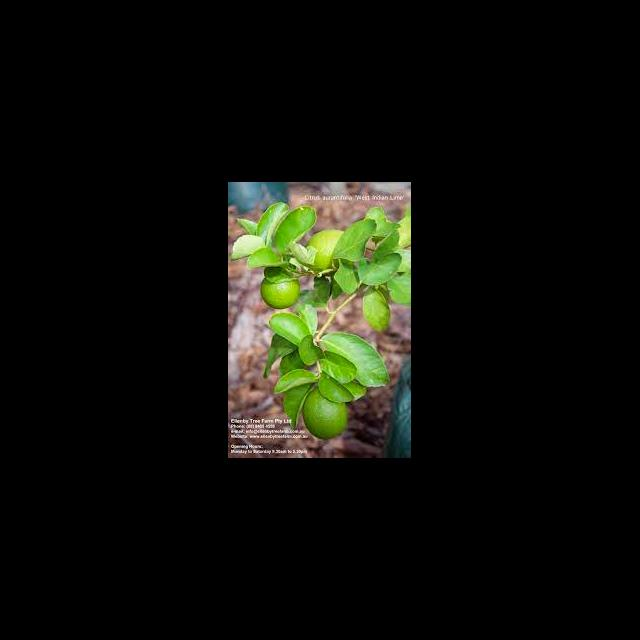lime: (304, 389, 348, 439), (262, 267, 300, 310), (306, 230, 344, 271)
